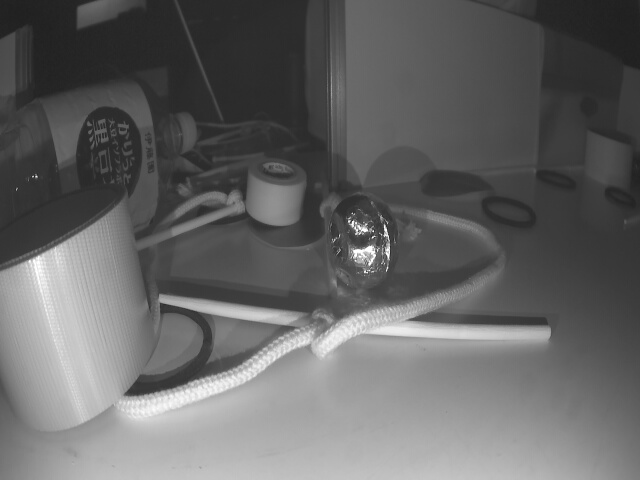Live: (325, 193, 395, 291)
